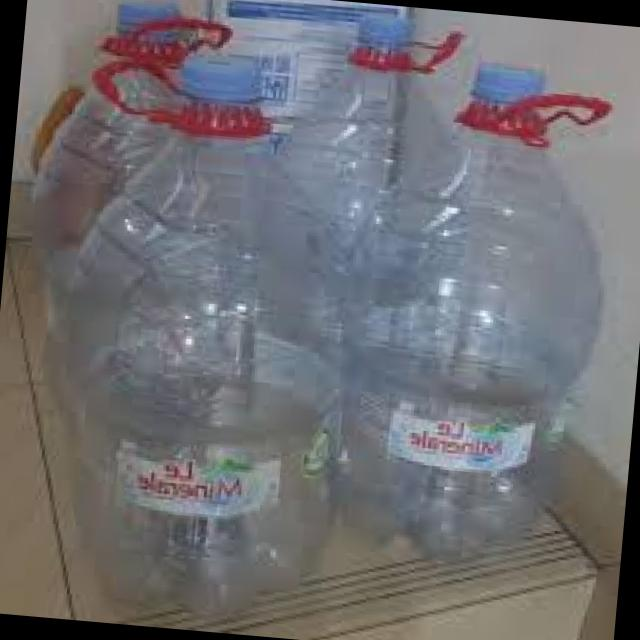Galon: (0, 0, 626, 633)
